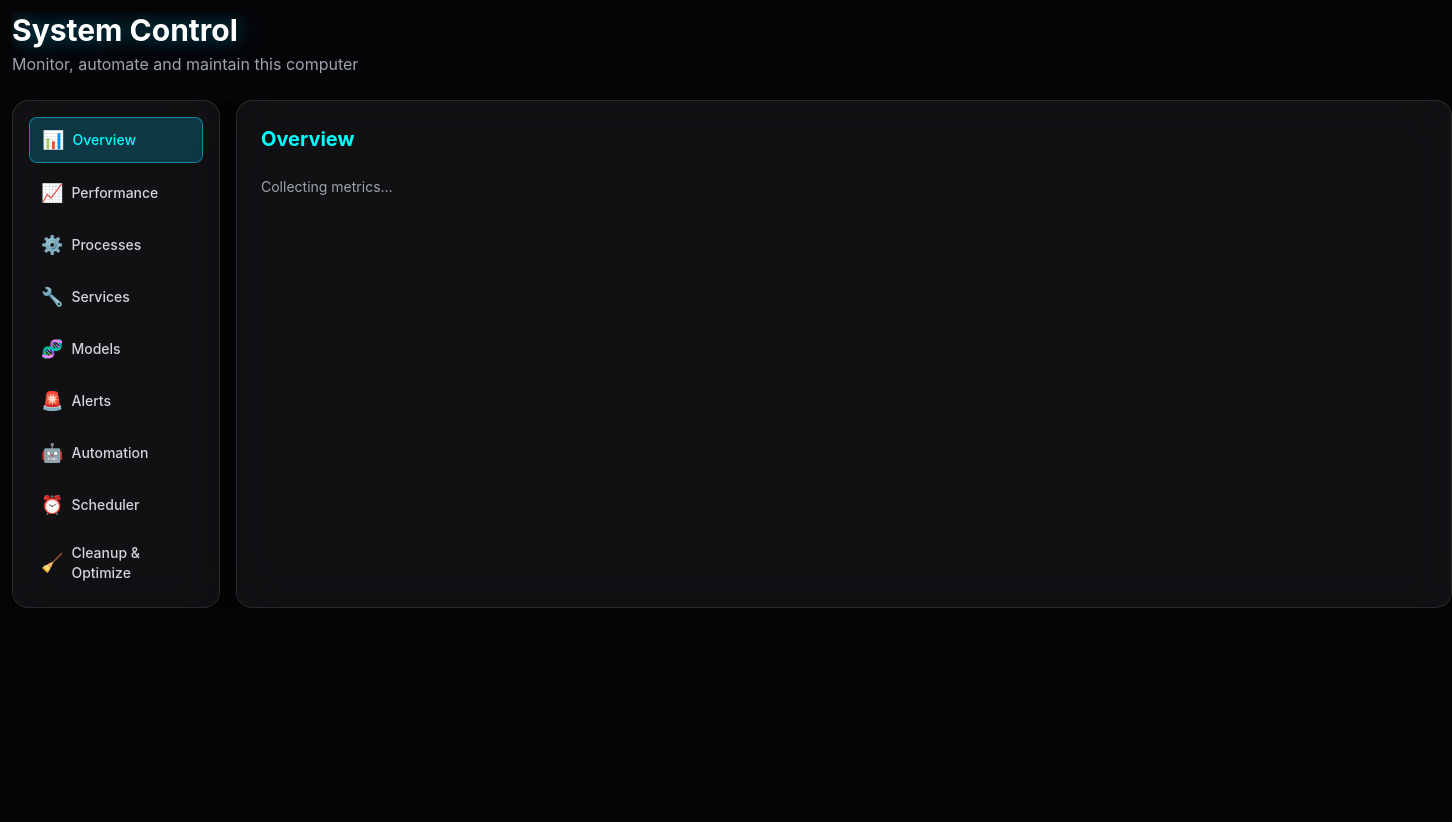
SystemControlView › offers alert presets
Click the button "🚨 Alerts" at [116, 401], box [29,379,203,423]
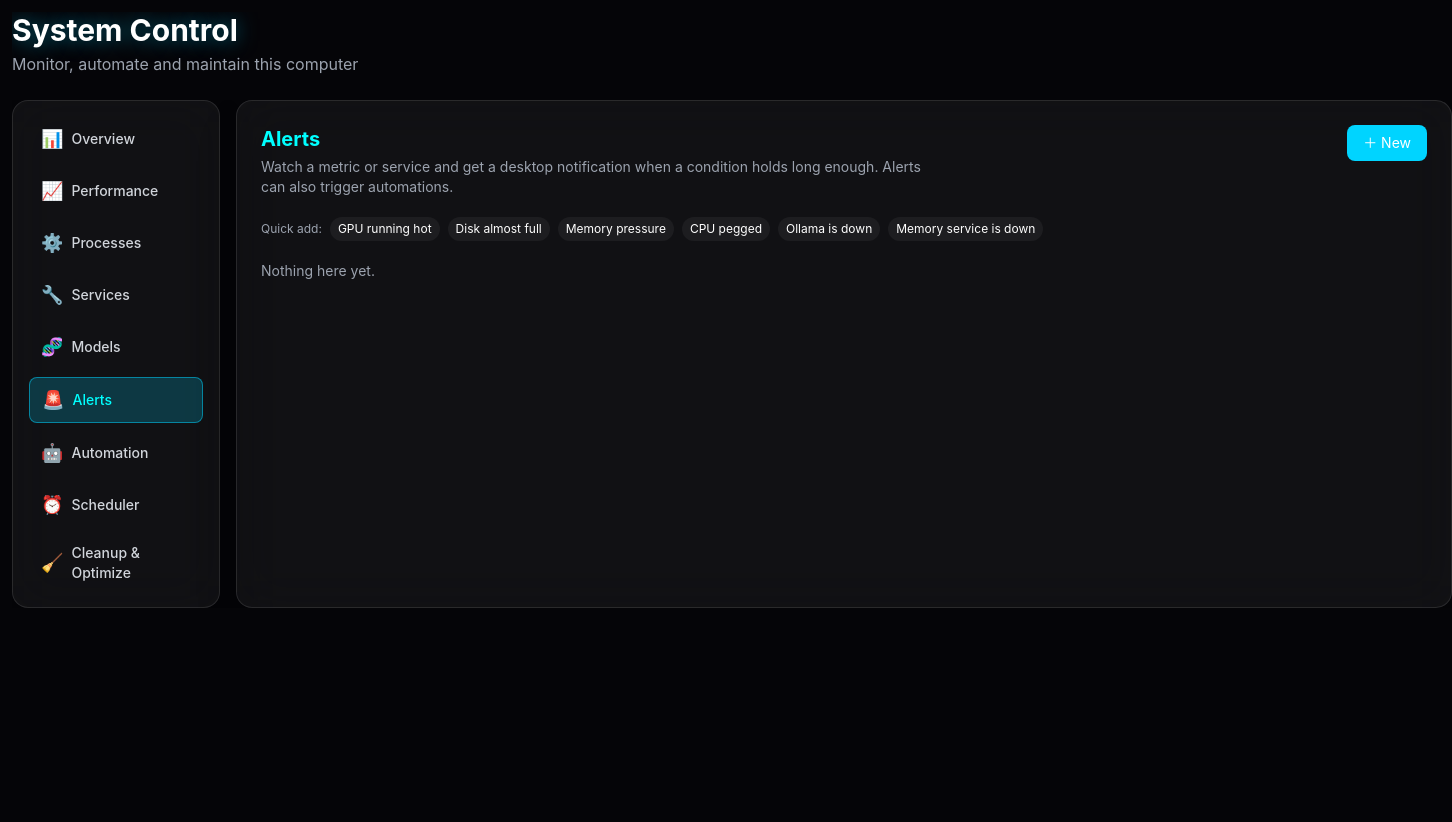
expect the button "GPU running hot" is shown: met, box [330,217,440,241]
